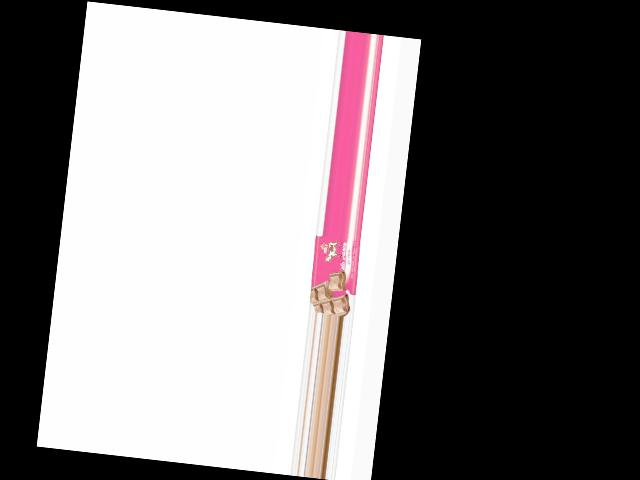chocolate: (308, 234, 362, 317)
